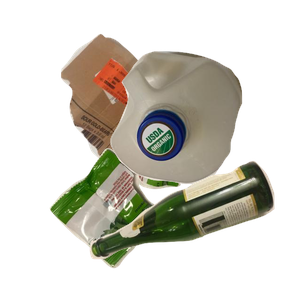cardboard: (58, 31, 222, 188)
glass: (87, 158, 300, 300)
plastic: (108, 49, 300, 226)
trash: (47, 146, 220, 300)
